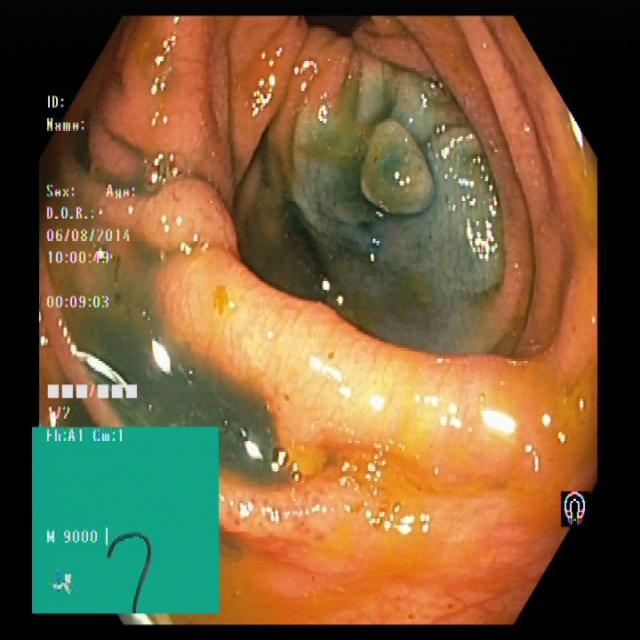dyed-lifted-polyps: (348, 117, 441, 217)
